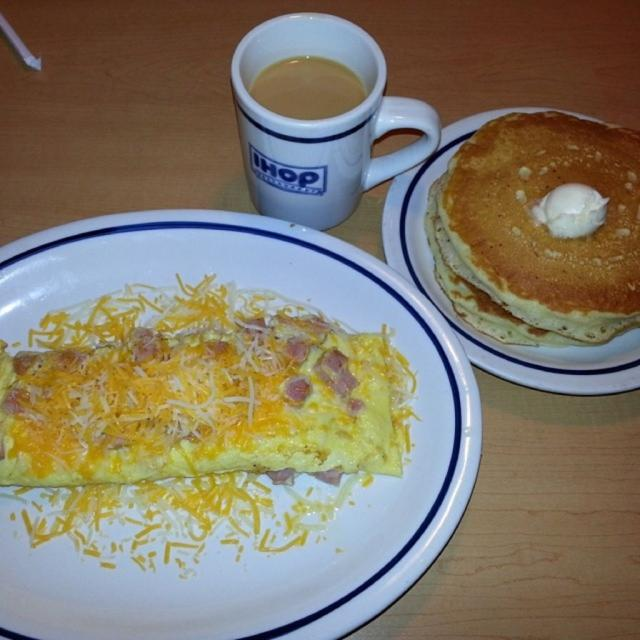Coffee: (250, 53, 366, 124)
Tea: (249, 56, 366, 118)
